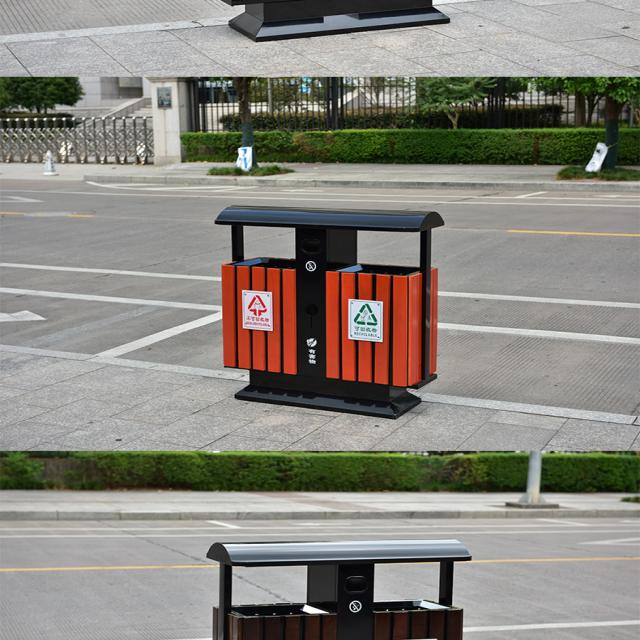ash bin: (211, 200, 445, 419), (203, 540, 472, 638), (211, 0, 450, 43)
reflective_cone: (39, 149, 57, 177)
